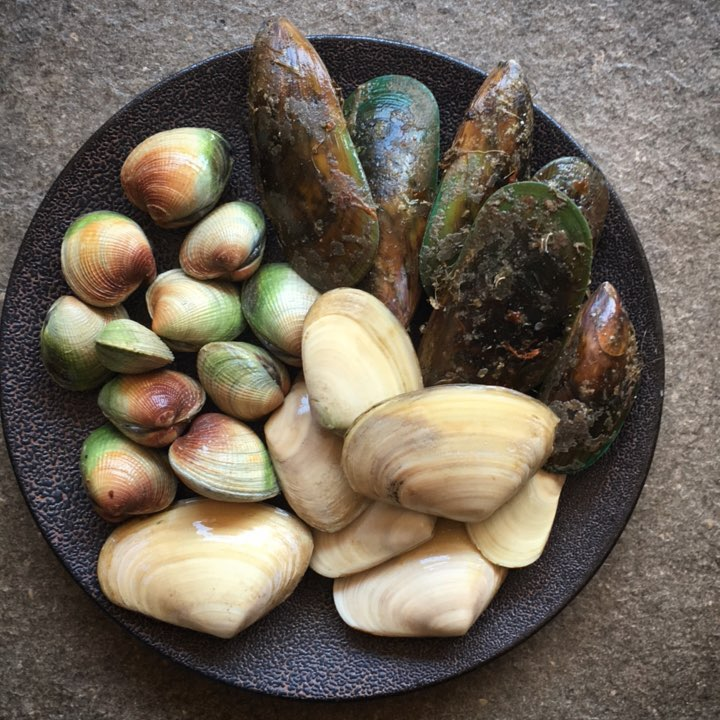cockle: (120, 123, 236, 231), (168, 411, 278, 505), (62, 207, 159, 306), (78, 425, 176, 521), (96, 370, 207, 450), (149, 263, 248, 351), (39, 290, 122, 394), (175, 197, 267, 282), (241, 259, 315, 364), (197, 338, 290, 414), (96, 317, 177, 374)
mussel: (244, 17, 381, 291), (435, 178, 593, 385), (417, 59, 536, 310), (346, 72, 439, 324), (557, 281, 644, 478)
tuatua: (93, 494, 316, 643), (340, 380, 558, 523), (334, 525, 504, 640), (298, 283, 424, 429), (264, 378, 363, 534), (466, 465, 567, 571), (308, 505, 437, 577)
